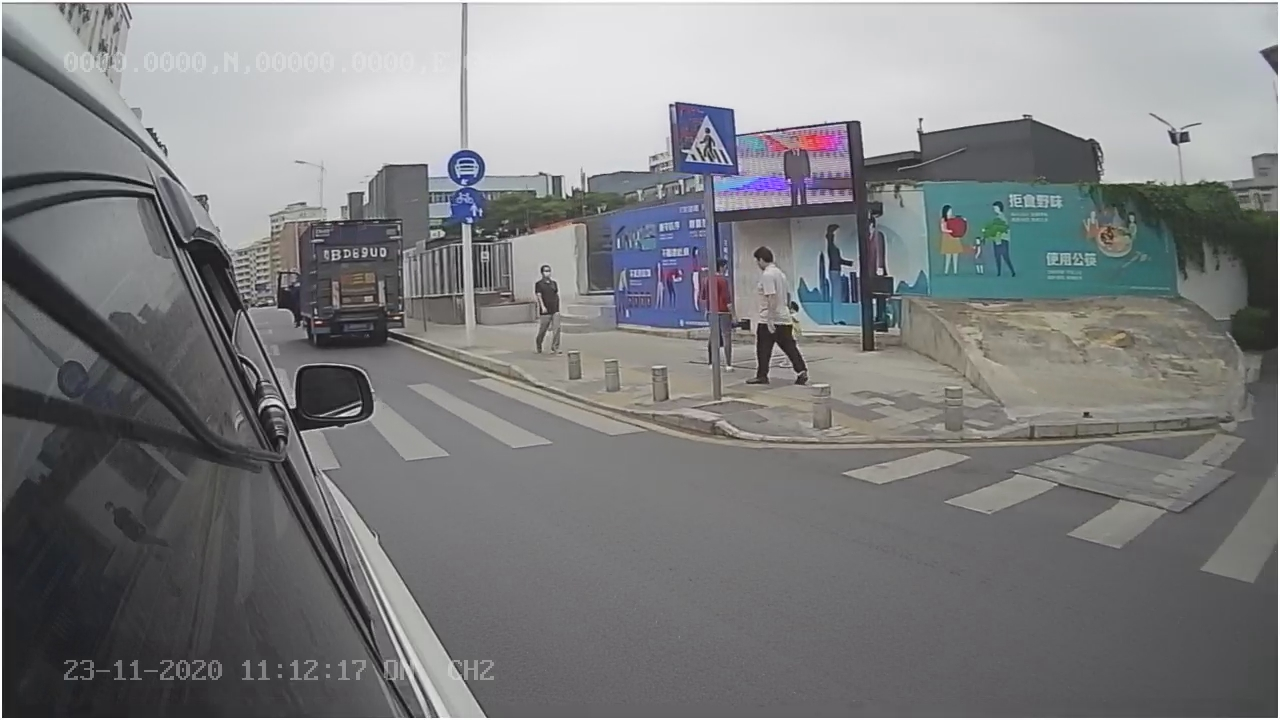person: (734, 238, 811, 392)
